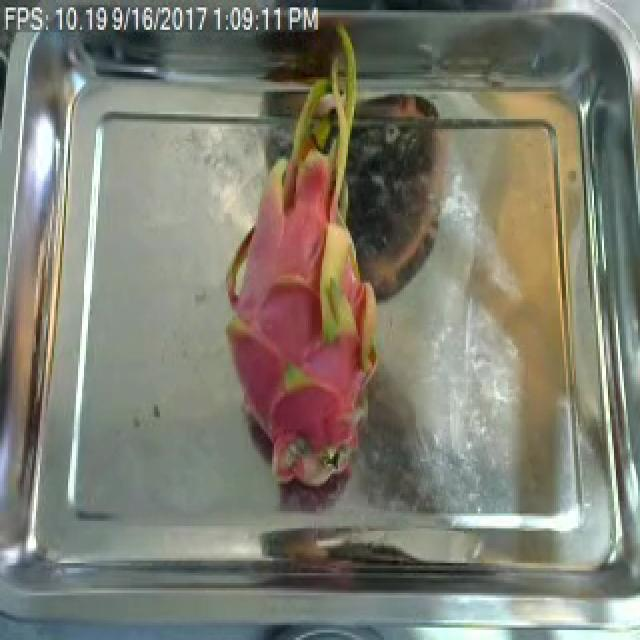fruit: (212, 70, 398, 503)
